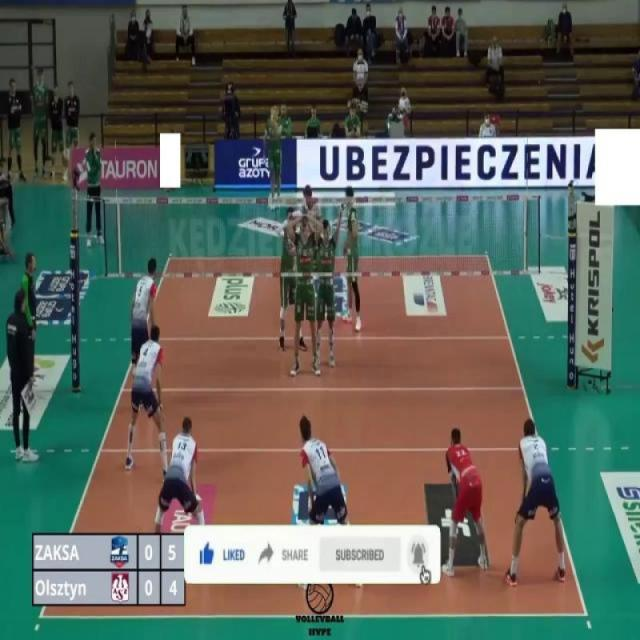volleyball: (267, 118, 278, 138)
